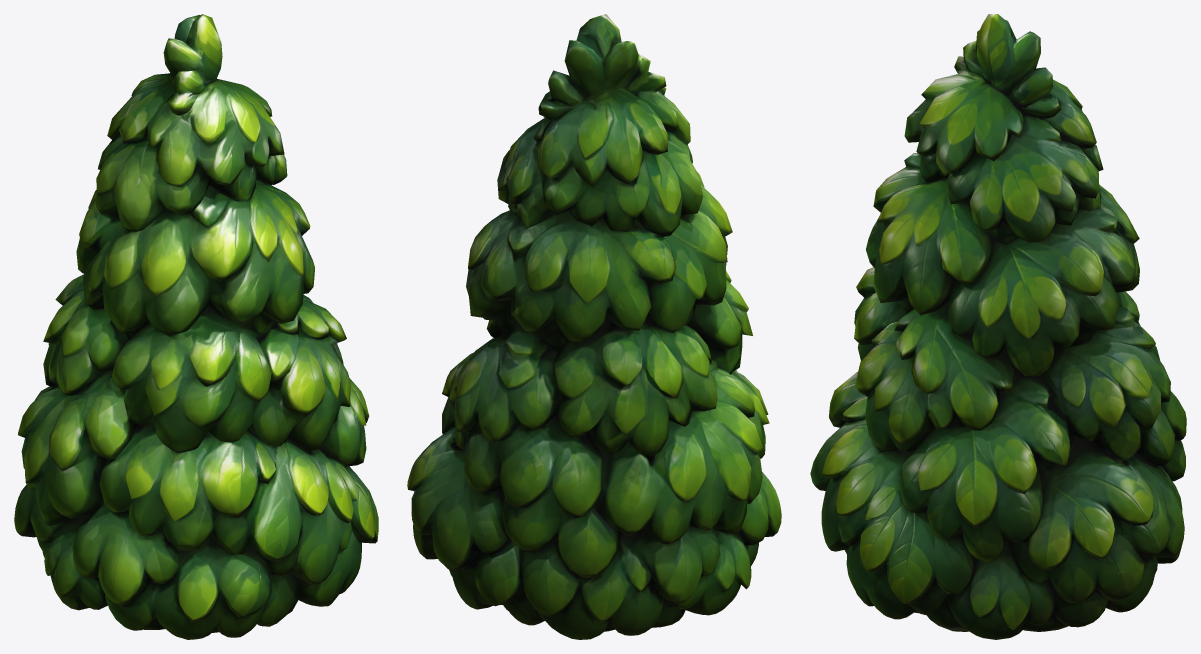
File: Kit_W_BushB_HD_src.glb
3 renders of one model, left to right at view 1: azimuth 30°, elevation 25°; view 2: azimuth 150°, elevation 25°; view 3: azimuth 270°, elevation 25°, orthographic.
Visible parts, largest first — view 1: tripo_node_a4cefb90-3730-4c43-b9dd-f19f8cd44048; view 2: tripo_node_a4cefb90-3730-4c43-b9dd-f19f8cd44048; view 3: tripo_node_a4cefb90-3730-4c43-b9dd-f19f8cd44048.
Boxes of the visible parts, bbox=[...] form: tripo_node_a4cefb90-3730-4c43-b9dd-f19f8cd44048: bbox=[14, 14, 378, 639]; tripo_node_a4cefb90-3730-4c43-b9dd-f19f8cd44048: bbox=[407, 14, 781, 639]; tripo_node_a4cefb90-3730-4c43-b9dd-f19f8cd44048: bbox=[810, 14, 1186, 639].
Size of the model in its own units: 0.5683 by 0.9802 by 0.5826.
Materials: 1 (1 with a texture image).
